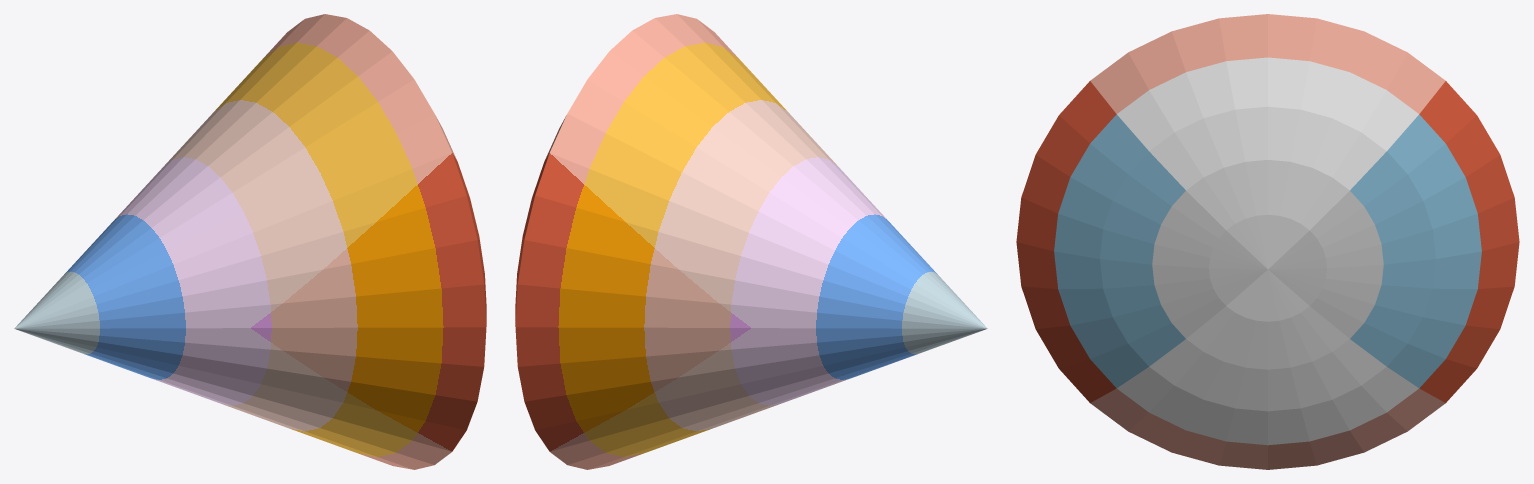
File: tongueAimCollider_mod_01.fbx
The picture shows the model from 3 angles, left to right: view 1: azimuth 30°, elevation 25°; view 2: azimuth 150°, elevation 25°; view 3: azimuth 270°, elevation 25°; orthographic projection. The views are drawn at different scales.
Parts seen in each view (by area): view 1: Cube; view 2: Cube; view 3: Cube.
Boxes of the visible parts, x1,y1,x2,y2 form: Cube: (14,14,486,469); Cube: (515,14,987,469); Cube: (1016,14,1519,469).
Bounding box in the file's own units: 1.68 × 1.66 × 1.66.
